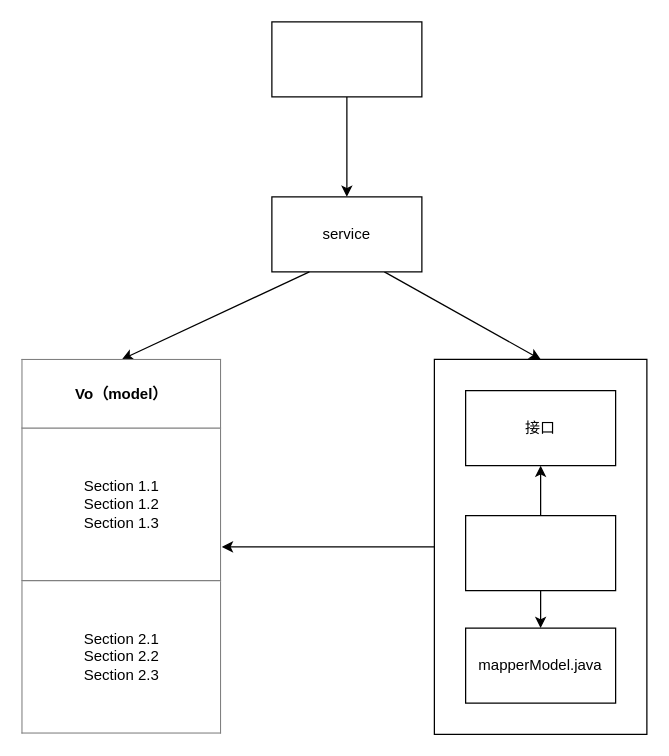
Some shapes in this 669 by 756 pixel diagram are drawn without their labels. The centre of each missing label's shape, as x and y in pixels:
"controller" belongs at pixel 346 59.
"mapper.xml" belongs at pixel 540 552.
